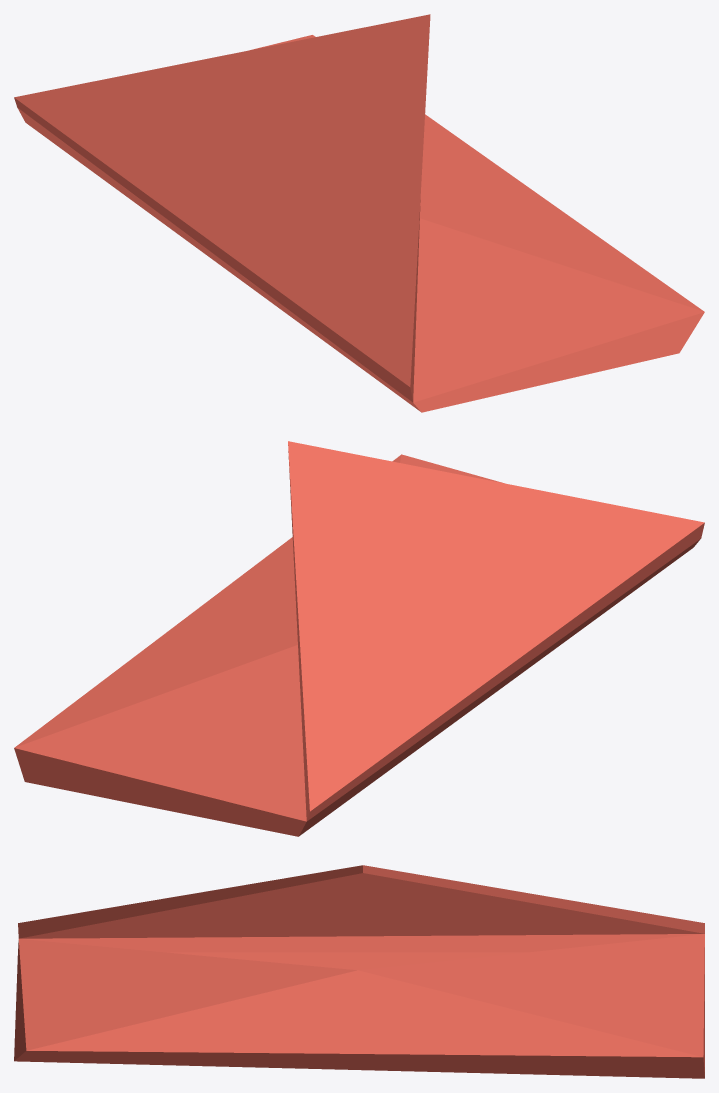
3 renders of one model, top to bottom at view 1: azimuth 30°, elevation 25°; view 2: azimuth 150°, elevation 25°; view 3: azimuth 270°, elevation 25°, orthographic. The views are drawn at different scales.
Parts seen in each view (by area): view 1: Cube; view 2: Cube; view 3: Cube.
Part boxes in pixels (x1,y1,x2,y2): Cube: (14, 14, 704, 412); Cube: (14, 441, 704, 836); Cube: (14, 865, 704, 1078).
Bounding box in the file's own units: 0.1482 × 0.1012 × 0.3417.
